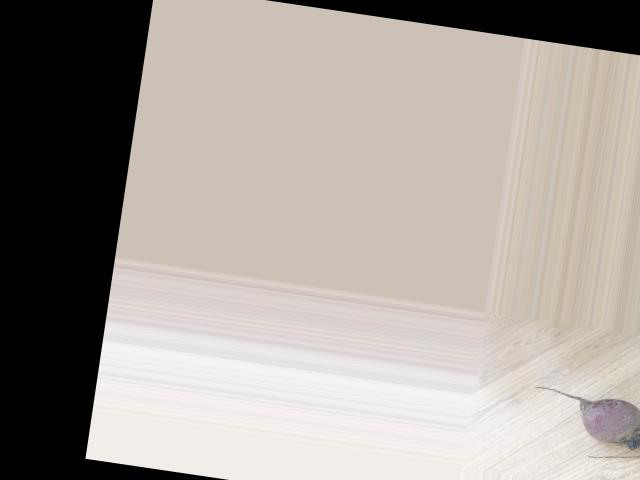beet: (524, 385, 640, 466)
